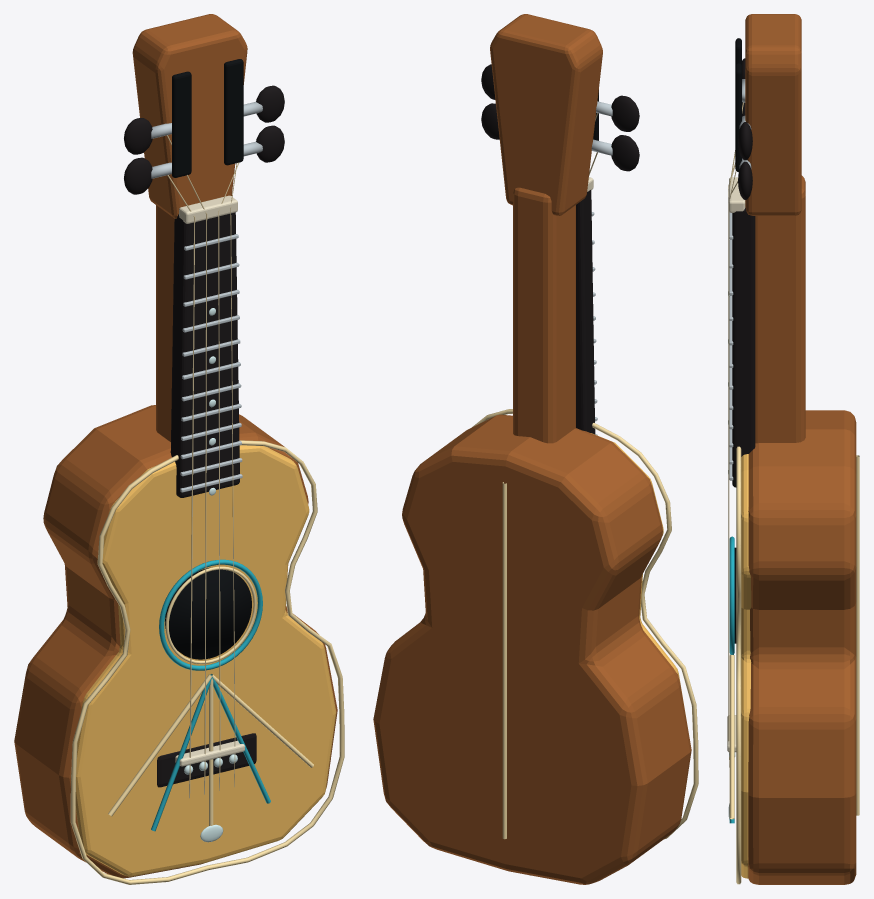
Rendered from rashin-sunbeam-soprano-ukulele-hero.glb.
The picture shows the model from 3 angles, left to right: view 1: azimuth 30°, elevation 25°; view 2: azimuth 150°, elevation 25°; view 3: azimuth 270°, elevation 25°; orthographic projection.
Visible parts, largest first — view 1: sunbeam_bookmatched_top, sunbeam_body_shell, sunbeam_fingerboard, sunbeam_headstock, sunbeam_front_binding, sunbeam_soundhole_shadow, sunbeam_neck_core, sunbeam_head_slot_left, sunbeam_head_slot_right, sunbeam_bridge, sunbeam_rosette_outer, sunbeam_course_0_string_0 (+15 smaller); view 2: sunbeam_body_shell, sunbeam_headstock, sunbeam_neck_core, sunbeam_fingerboard, sunbeam_front_binding, sunbeam_back_center_seam, sunbeam_tuner_key_0, sunbeam_tuner_key_1; view 3: sunbeam_body_shell, sunbeam_neck_core, sunbeam_headstock, sunbeam_fingerboard, sunbeam_bookmatched_top, sunbeam_front_binding, sunbeam_back_center_seam, sunbeam_course_3_string_0, sunbeam_ray_4, sunbeam_rosette_outer, sunbeam_head_slot_right, sunbeam_tuner_key_2 (+2 smaller).
Boxes of the visible parts, left/top/right/bottom form: sunbeam_bookmatched_top: left=71, top=445, right=336, bottom=876; sunbeam_body_shell: left=14, top=405, right=337, bottom=878; sunbeam_fingerboard: left=170, top=212, right=239, bottom=497; sunbeam_headstock: left=132, top=14, right=247, bottom=218; sunbeam_front_binding: left=70, top=440, right=344, bottom=884; sunbeam_soundhole_shadow: left=165, top=568, right=251, bottom=659; sunbeam_neck_core: left=156, top=205, right=174, bottom=441; sunbeam_head_slot_left: left=172, top=71, right=191, bottom=177; sunbeam_head_slot_right: left=224, top=59, right=243, bottom=165; sunbeam_bridge: left=157, top=733, right=256, bottom=787; sunbeam_rosette_outer: left=159, top=559, right=262, bottom=670; sunbeam_course_0_string_0: left=167, top=175, right=195, bottom=798; sunbeam_body_shell: left=373, top=414, right=691, bottom=884; sunbeam_headstock: left=490, top=14, right=602, bottom=215; sunbeam_neck_core: left=513, top=187, right=575, bottom=443; sunbeam_fingerboard: left=576, top=190, right=595, bottom=434; sunbeam_front_binding: left=472, top=409, right=698, bottom=839; sunbeam_back_center_seam: left=502, top=482, right=506, bottom=839; sunbeam_tuner_key_0: left=611, top=135, right=639, bottom=171; sunbeam_tuner_key_1: left=611, top=95, right=639, bottom=131; sunbeam_body_shell: left=748, top=410, right=856, bottom=884; sunbeam_neck_core: left=755, top=175, right=805, bottom=443; sunbeam_headstock: left=745, top=14, right=801, bottom=215; sunbeam_fingerboard: left=732, top=207, right=755, bottom=487; sunbeam_bookmatched_top: left=741, top=454, right=751, bottom=878; sunbeam_front_binding: left=736, top=446, right=741, bottom=884; sunbeam_back_center_seam: left=856, top=455, right=859, bottom=815; sunbeam_course_3_string_0: left=728, top=170, right=736, bottom=767; sunbeam_ray_4: left=729, top=655, right=734, bottom=819; sunbeam_rosette_outer: left=729, top=536, right=734, bottom=654; sunbeam_head_slot_right: left=735, top=63, right=741, bottom=171; sunbeam_tuner_key_2: left=738, top=161, right=752, bottom=199.
Bounding box in the file's own units: 0.192 × 0.56 × 0.0801.
